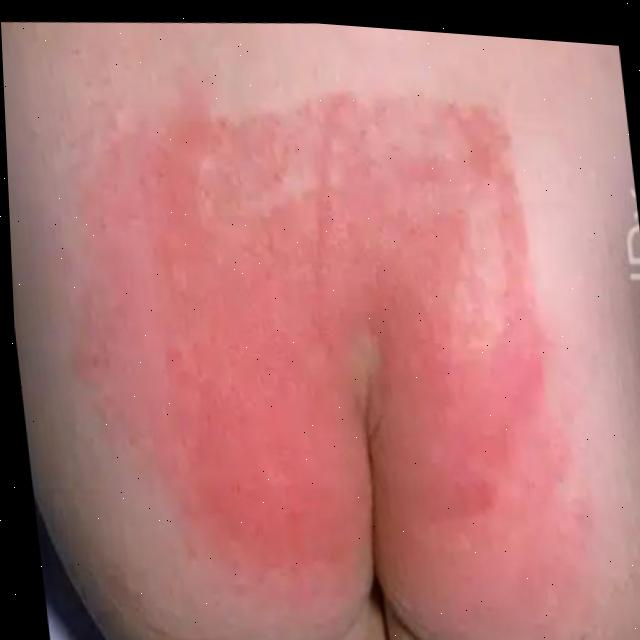Eczema: (58, 78, 530, 541)
